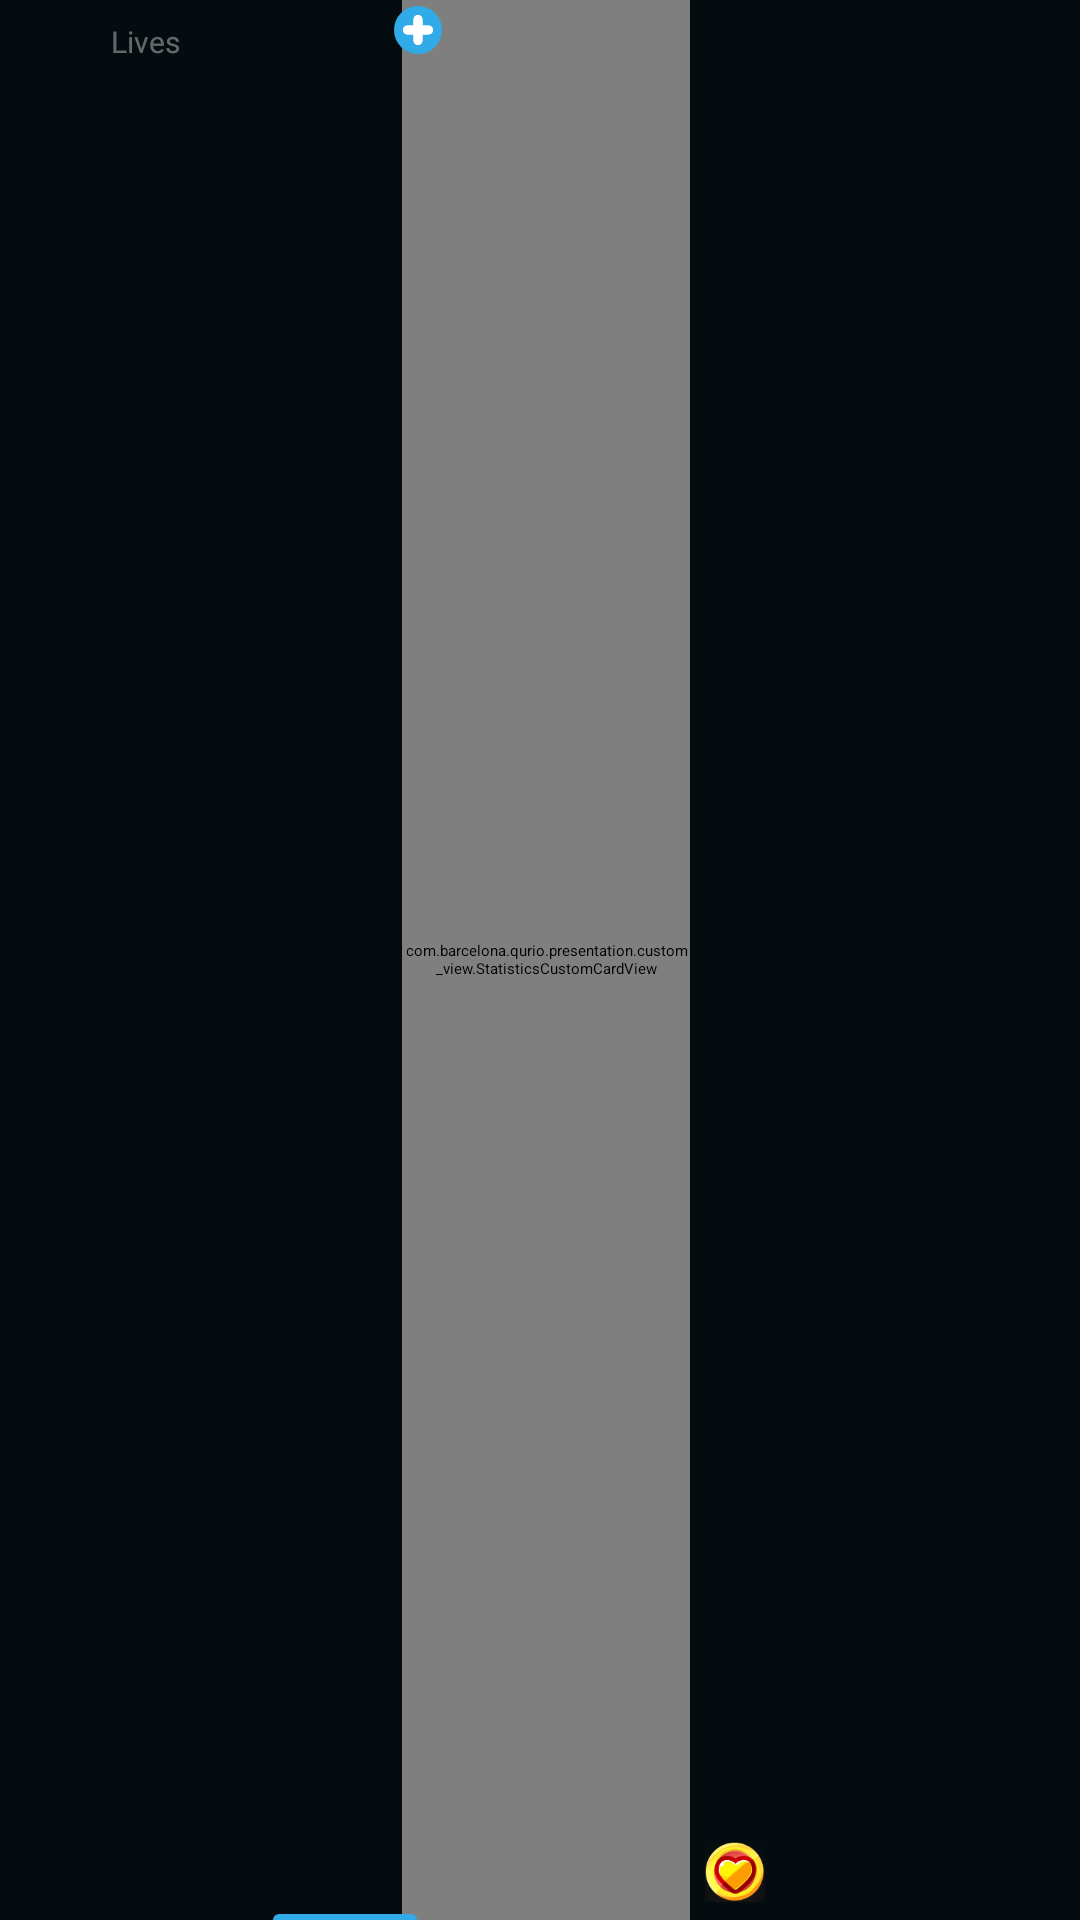

Icon click points for this 1080x1920 phone screenshot, format (x=x, y=y):
statstics add: (x=418, y=30)
statstics heart: (x=734, y=1871)
